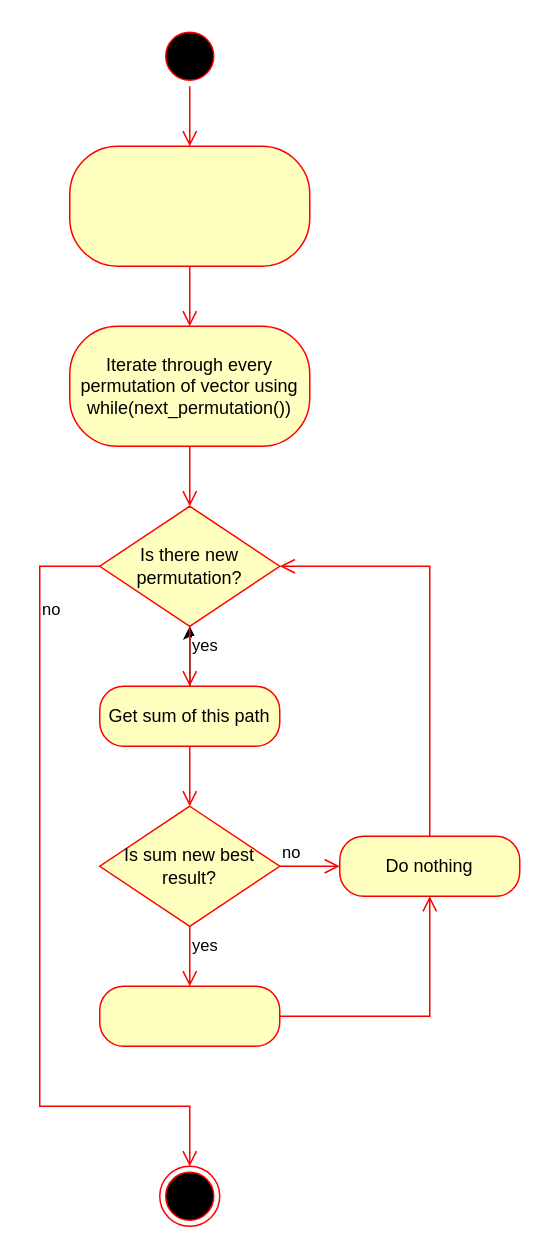
Image size: 546x1253. Some labels were removed from this diagram. Here are the shapes that lost their labels. From the top down, the centre of each, then its label:
the point at 189,205: Set node 1 as start/end point, add other nodes to vector
the point at 189,1015: Set sum as new best value
